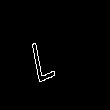L_N: (41, 27, 69, 83)
